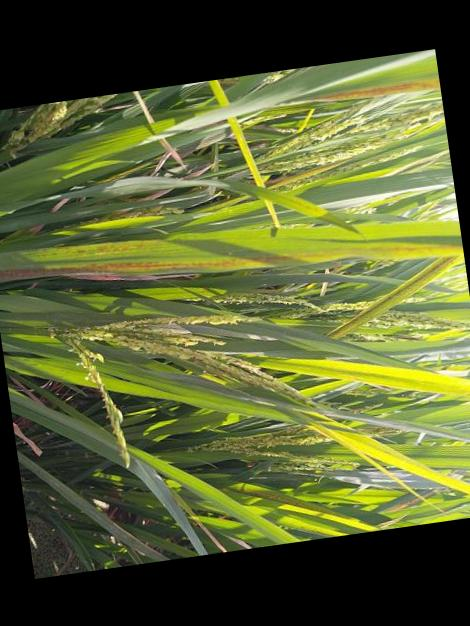Leaf Streak: (0, 245, 464, 280), (328, 254, 461, 336), (317, 74, 441, 101), (40, 238, 148, 262), (242, 482, 320, 508)
